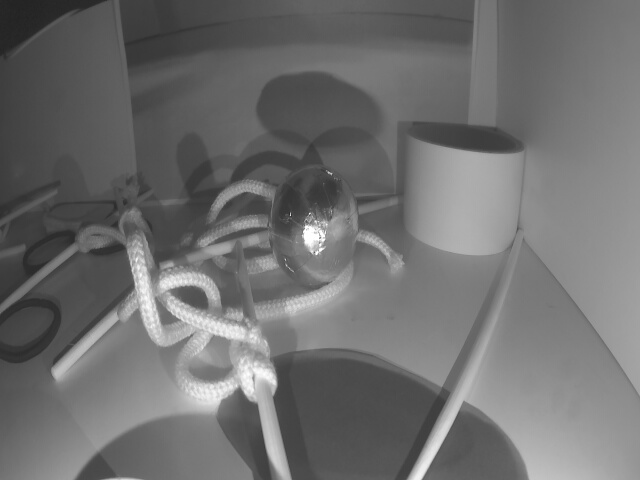Live: (269, 164, 360, 287)
